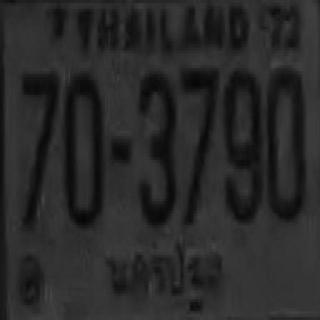N00: (265, 65, 305, 219), (62, 71, 102, 225)
N03: (137, 68, 175, 222)
N07: (20, 70, 57, 227), (180, 65, 217, 222), (180, 65, 217, 201)
N09: (223, 67, 261, 221)
P28: (100, 244, 228, 320)
